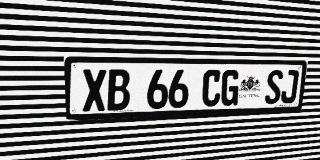6: (147, 69, 169, 109), (168, 69, 190, 108)
B: (107, 69, 130, 111)
C: (201, 70, 222, 107)
G: (220, 70, 240, 106)
J: (280, 70, 299, 104)
S: (264, 70, 284, 104)
X: (82, 69, 106, 112)
